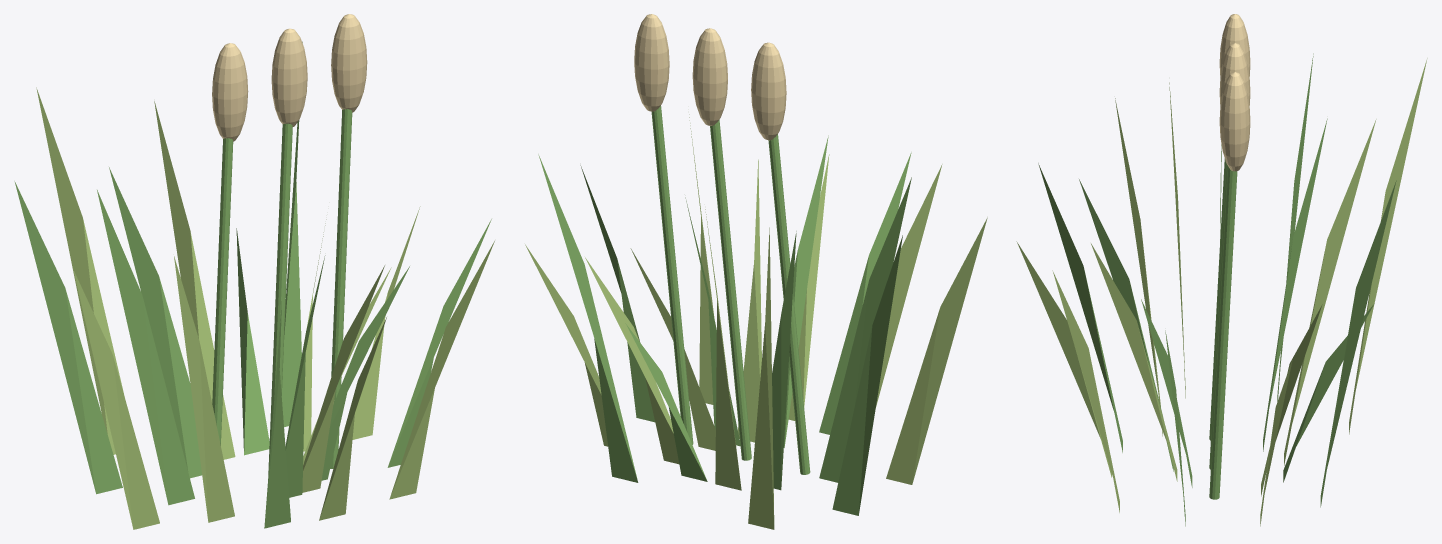
The model's file is TallGrass.fbx.
The picture shows the model from 3 angles, left to right: view 1: azimuth 30°, elevation 25°; view 2: azimuth 150°, elevation 25°; view 3: azimuth 270°, elevation 25°; orthographic projection.
Visible parts, largest first — view 1: Tall grass blade.009, Tall grass blade.017, Tall grass blade.001, Tall grass blade.004, Tall grass blade.012, Tall grass blade.014, Tall grass blade.006, Tall grass blade.018, Tall grass blade.003, Seed stem, Tall grass blade.011, Seed stem.002 (+12 smaller); view 2: Tall grass blade.004, Tall grass blade.009, Tall grass blade.017, Tall grass blade.003, Tall grass blade.014, Seed stem.001, Seed stem.002, Seed stem, Tall grass blade.001, Grass seed head.002, Grass seed head, Grass seed head.001 (+13 smaller); view 3: Seed stem.002, Tall grass blade.006, Tall grass blade.003, Grass seed head.002, Tall grass blade.014, Tall grass blade.007, Tall grass blade.010, Tall grass blade.001, Tall grass blade.002, Tall grass blade.018, Tall grass blade.015, Tall grass blade.011 (+11 smaller).
Part boxes in pixels (x1,y1,x2,y2): Tall grass blade.009: [14, 181, 122, 494]; Tall grass blade.017: [97, 190, 194, 505]; Tall grass blade.001: [109, 167, 201, 478]; Tall grass blade.004: [73, 270, 159, 529]; Tall grass blade.012: [174, 256, 234, 522]; Tall grass blade.014: [36, 87, 123, 454]; Tall grass blade.006: [154, 101, 235, 459]; Tall grass blade.018: [389, 241, 494, 499]; Tall grass blade.003: [281, 41, 302, 427]; Seed stem: [212, 138, 233, 445]; Tall grass blade.011: [236, 228, 269, 455]; Seed stem.002: [330, 109, 352, 468]; Tall grass blade.004: [886, 217, 987, 484]; Tall grass blade.009: [832, 235, 902, 515]; Tall grass blade.017: [819, 177, 911, 482]; Tall grass blade.003: [538, 154, 638, 482]; Tall grass blade.014: [748, 227, 774, 529]; Seed stem.001: [710, 120, 751, 460]; Seed stem.002: [651, 106, 693, 444]; Seed stem: [768, 134, 810, 474]; Tall grass blade.001: [772, 231, 796, 490]; Grass seed head.002: [634, 14, 669, 111]; Grass seed head: [751, 42, 786, 140]; Grass seed head.001: [692, 28, 727, 125]; Seed stem.002: [1209, 165, 1237, 499]; Tall grass blade.006: [1284, 119, 1376, 465]; Tall grass blade.003: [1320, 180, 1396, 507]; Grass seed head.002: [1219, 72, 1250, 171]; Tall grass blade.014: [1349, 58, 1427, 434]; Tall grass blade.007: [1038, 163, 1122, 452]; Tall grass blade.010: [1091, 243, 1177, 481]; Tall grass blade.001: [1263, 118, 1327, 451]; Tall grass blade.002: [1016, 241, 1111, 477]; Tall grass blade.018: [1052, 270, 1119, 512]; Tall grass blade.015: [1079, 179, 1173, 471]; Tall grass blade.011: [1283, 303, 1374, 482].
Size of the model in its own units: 140 by 141 by 120.
